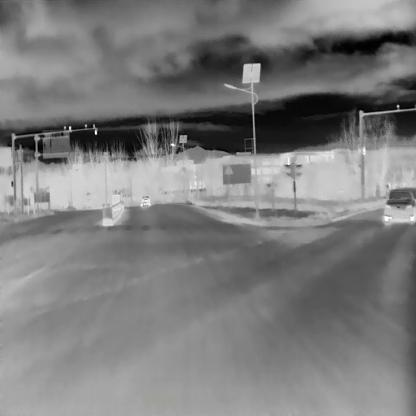car: (384, 189, 416, 223), (139, 195, 151, 206)
